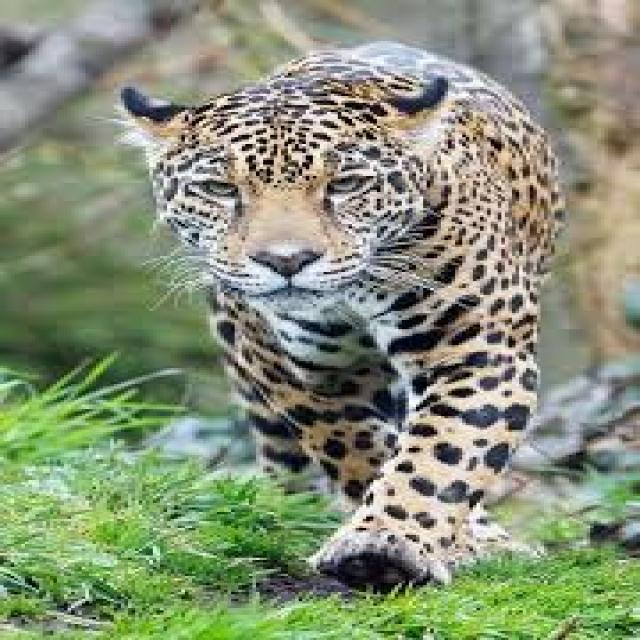Jaguar: (117, 41, 569, 583)
